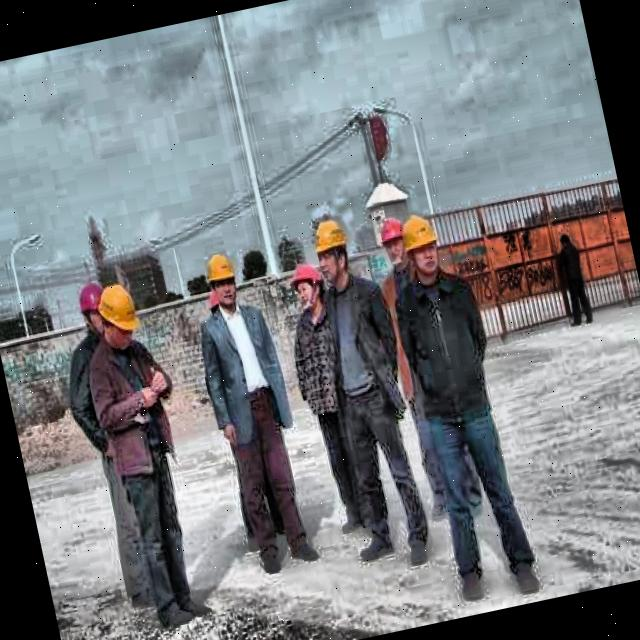helmet: (88, 276, 146, 351), (308, 212, 358, 286), (397, 210, 448, 282), (200, 245, 246, 313), (285, 254, 329, 318), (72, 278, 110, 340), (372, 212, 412, 270)
